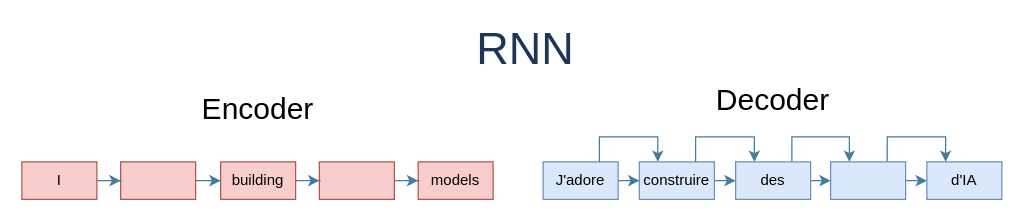
Image size: 1024x221. Some labels were removed from this diagram. Each missing label, with the centre of its shape:
AI: [356,180]
love: [157,180]
modèles: [867,180]
